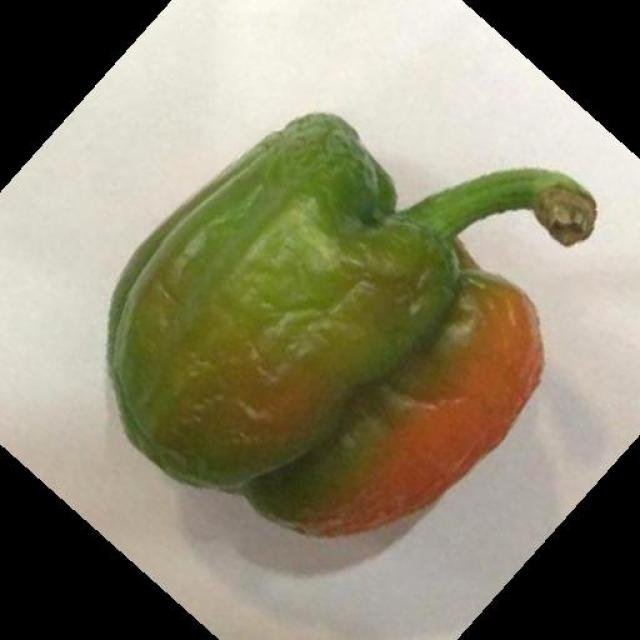Stale_Capsicum: (95, 97, 519, 512)
